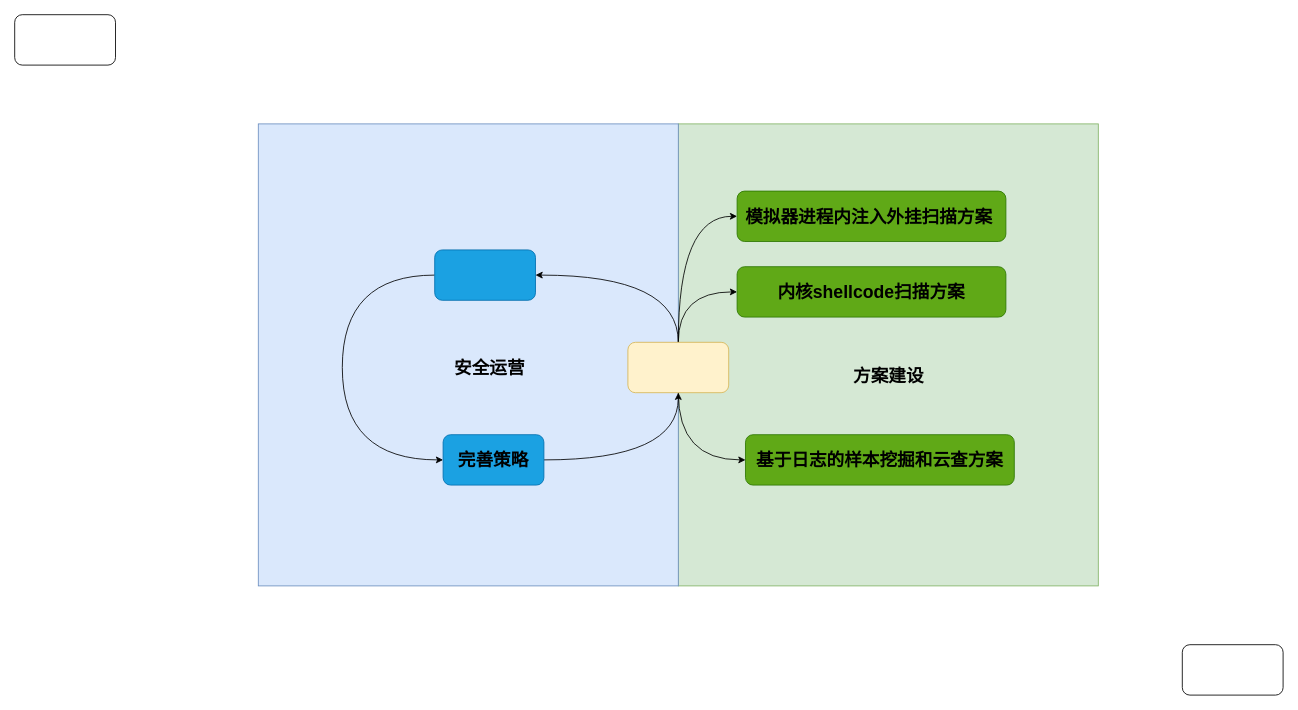
Some shapes in this 1298 by 710 pixel diagram are drawn without their labels. Here are the shapes that lost their labels. From the top down, the box of each, then its label:
(434, 249, 536, 300): 外挂分析
(627, 341, 729, 393): 编写特征
